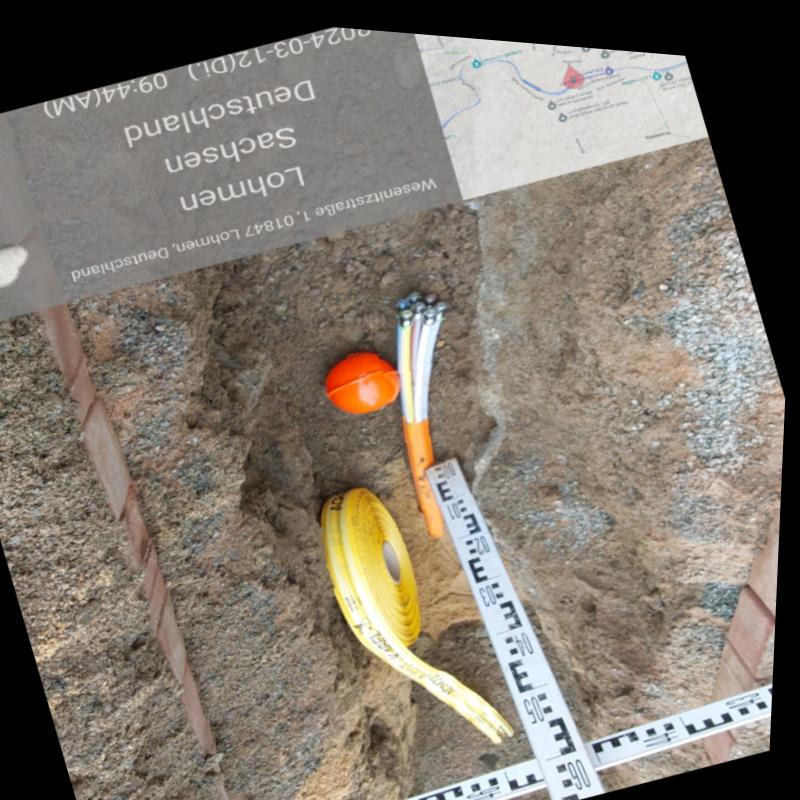Kugelmarker: (330, 346, 404, 406)
Orang-Speednetrohrchen: (398, 282, 450, 530)
